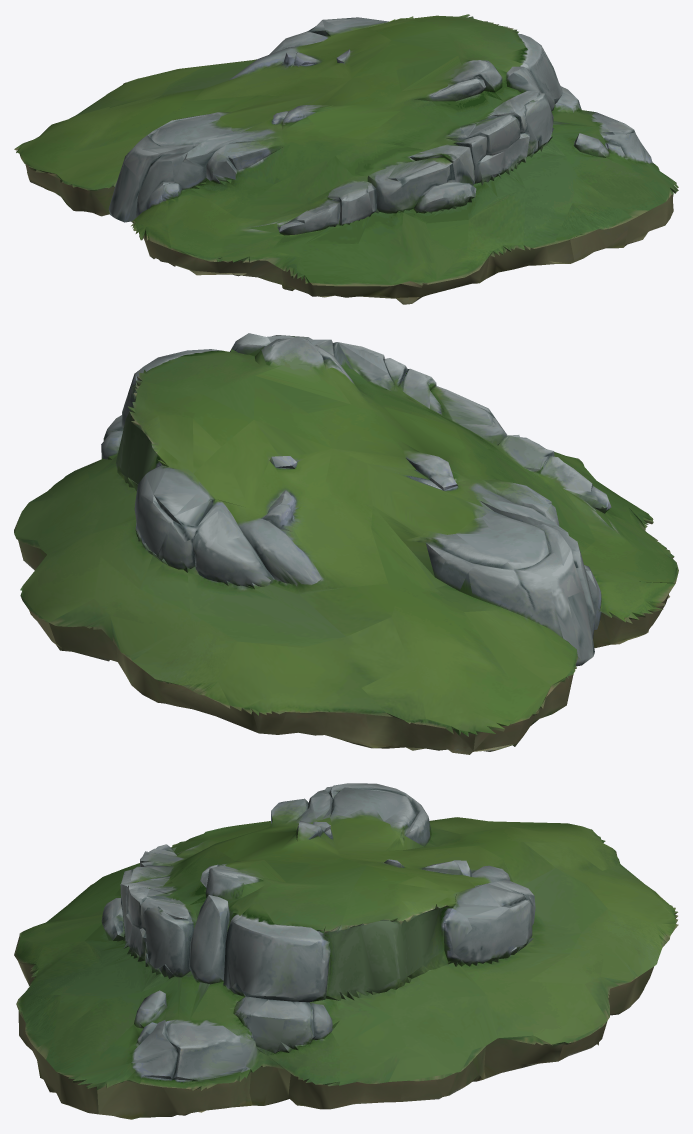
3 renders of one model, top to bottom at view 1: azimuth 30°, elevation 25°; view 2: azimuth 150°, elevation 25°; view 3: azimuth 270°, elevation 25°, orthographic. The views are drawn at different scales.
Visible parts, largest first — view 1: mountain_foothill; view 2: mountain_foothill; view 3: mountain_foothill.
Boxes of the visible parts, x1,y1,x2,y2 form: mountain_foothill: (14,14,678,304); mountain_foothill: (14,333,678,754); mountain_foothill: (14,783,678,1119).
Bounding box in the file's own units: 0.9505 × 0.2868 × 0.9797.
Materials: 1 (1 with a texture image).
